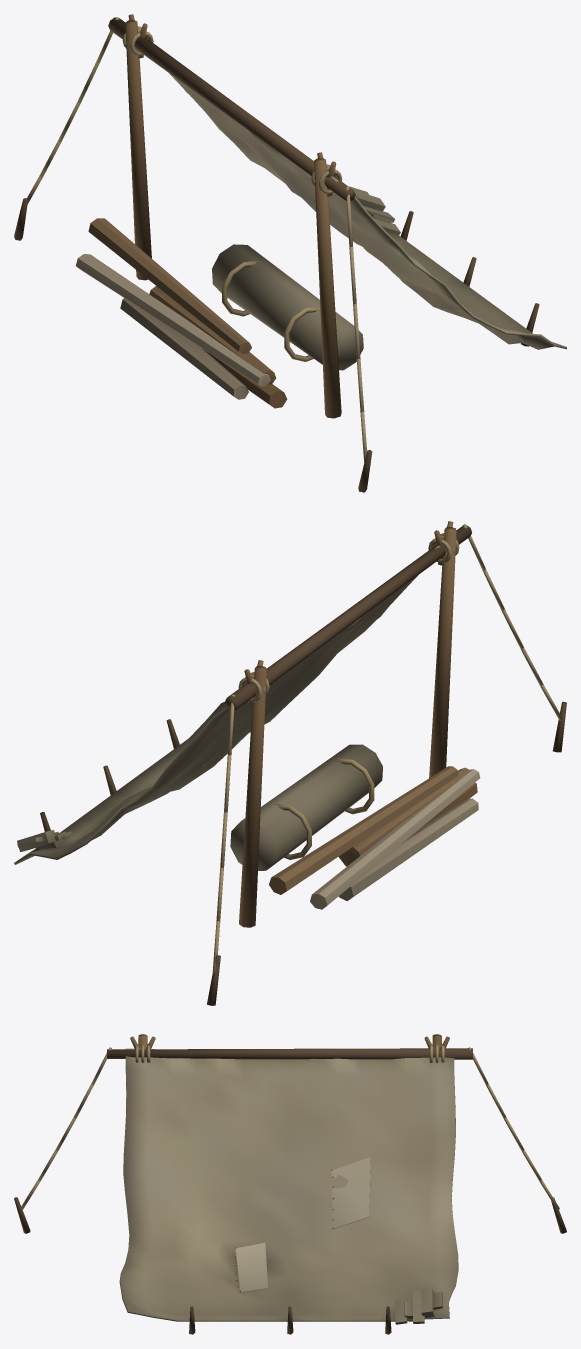
File: tent_b.1304280a.glb
The picture shows the model from 3 angles, top to bottom: view 1: azimuth 30°, elevation 25°; view 2: azimuth 150°, elevation 25°; view 3: azimuth 270°, elevation 25°; orthographic projection. The views are drawn at different scales.
Parts seen in each view (by area): view 1: tent_b; view 2: tent_b; view 3: tent_b.
Boxes of the visible parts, x1,y1,x2,y2 form: tent_b: (14,14,566,492); tent_b: (14,521,566,1005); tent_b: (14,1034,566,1334).
Size of the model in its own units: 2.43 by 2.02 by 4.79.
